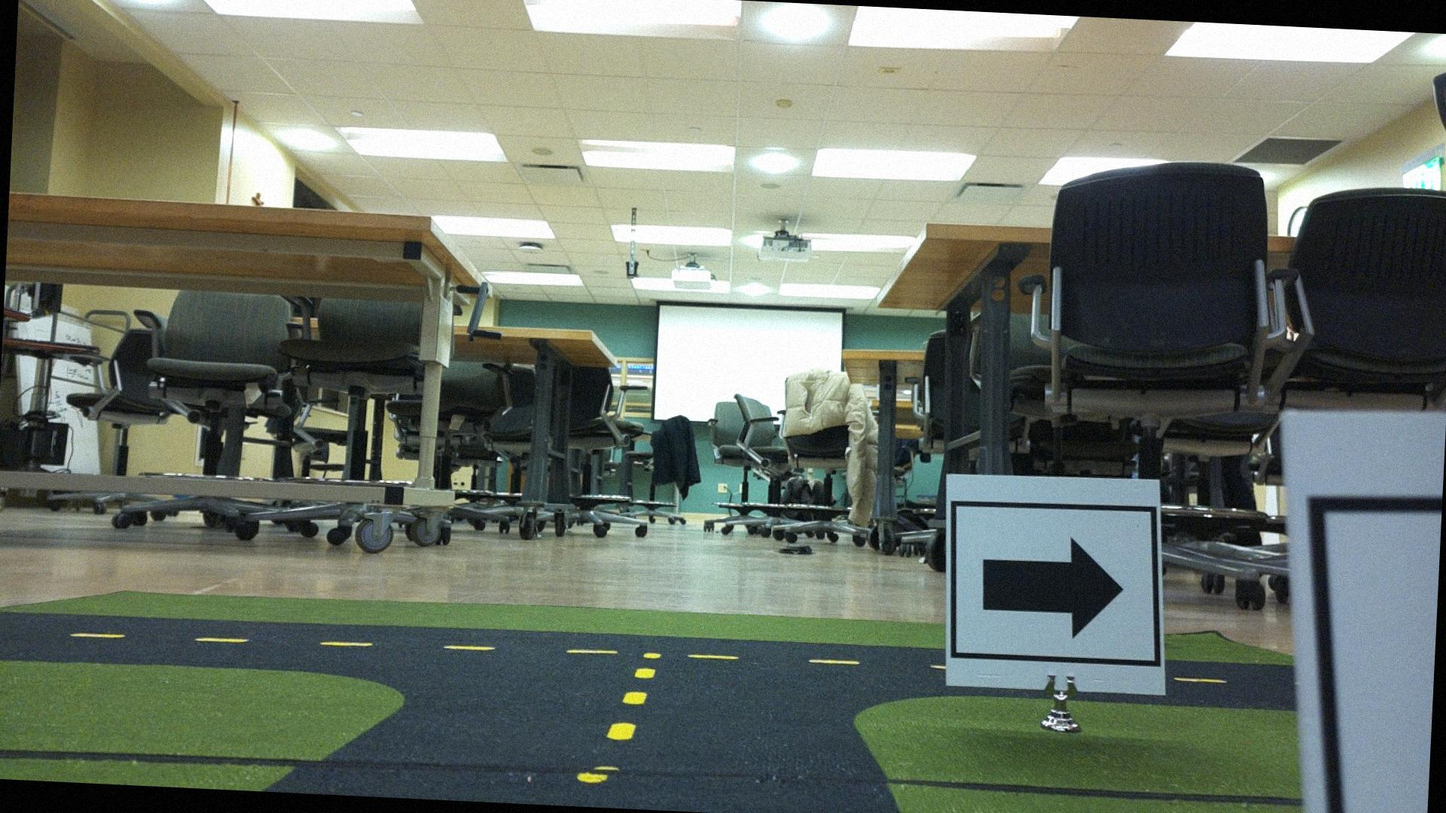turnleft: (947, 478, 1164, 693)
yellowline: (67, 620, 856, 674), (606, 641, 663, 744)
